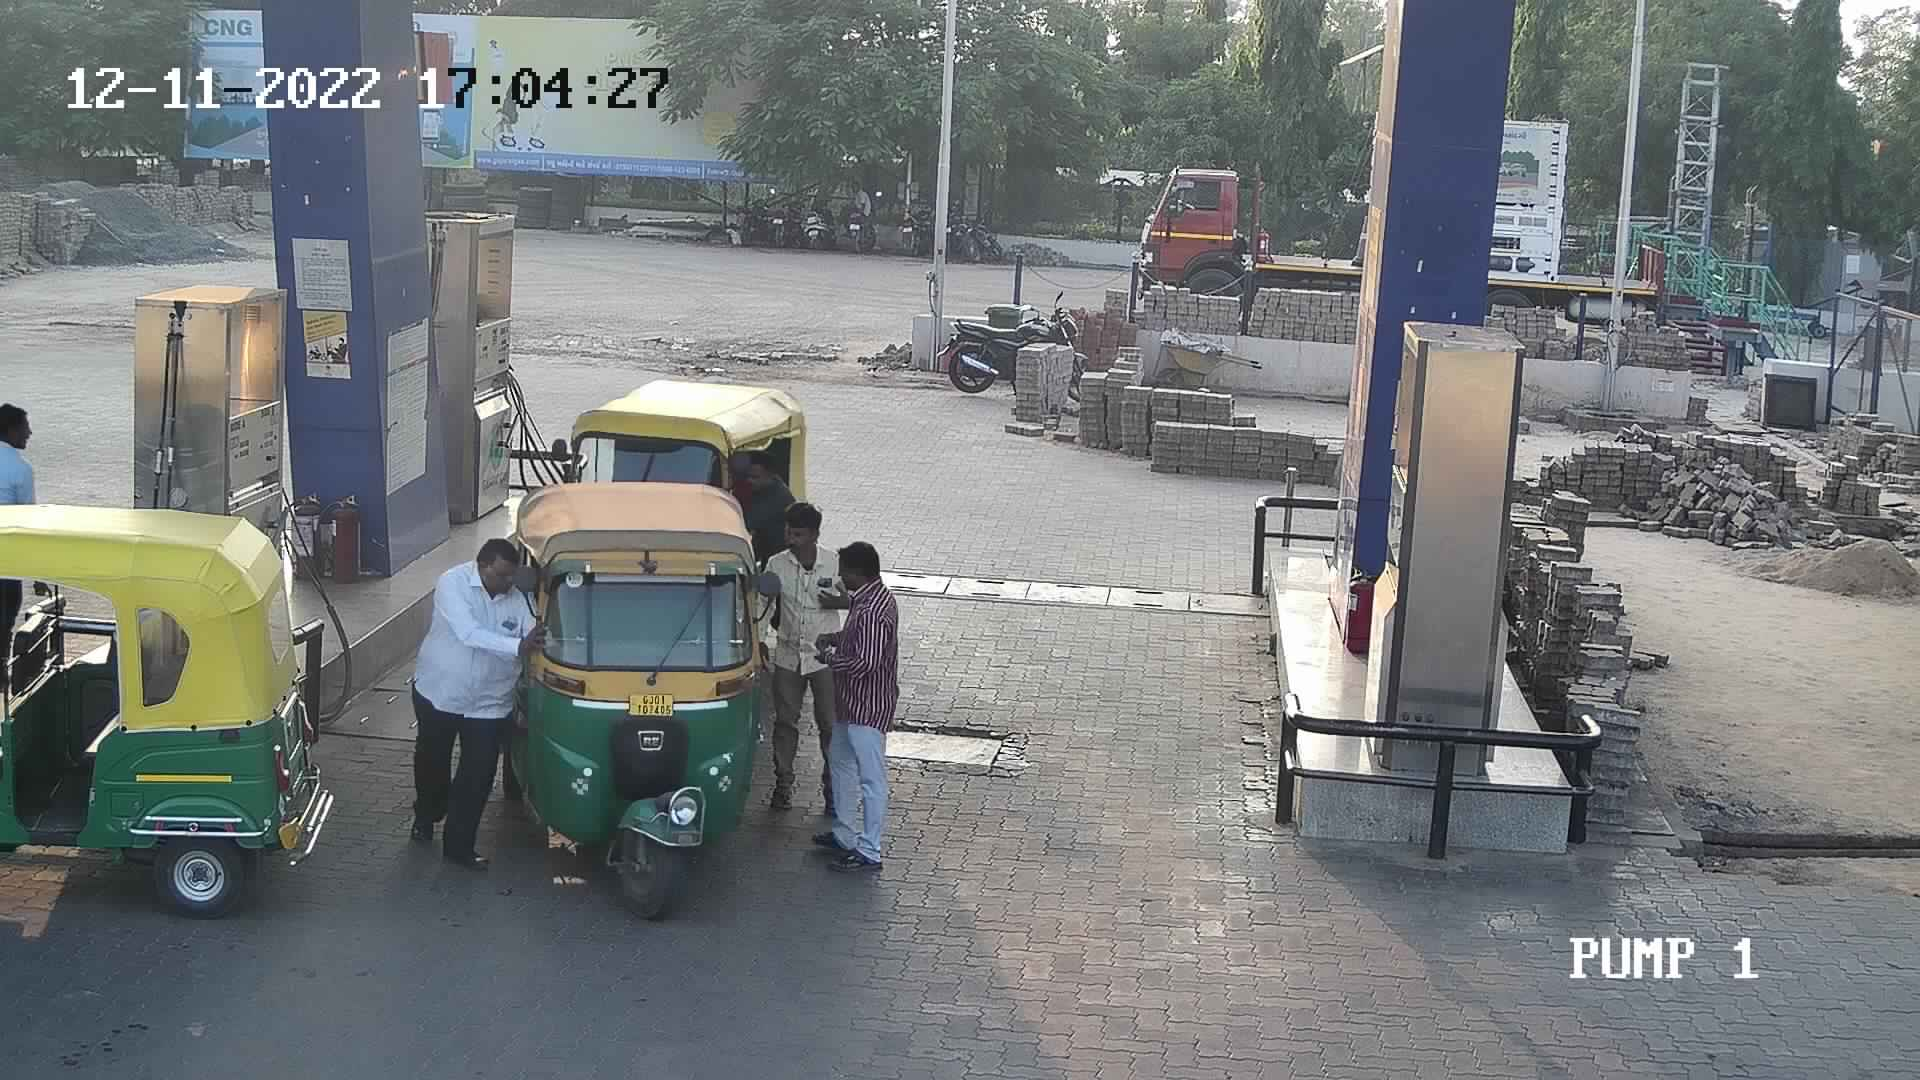Auto: (0, 481, 343, 928), (489, 473, 789, 926), (549, 373, 818, 514)
Bike: (938, 284, 1106, 426), (936, 200, 1007, 269), (735, 179, 785, 253), (760, 181, 804, 252), (837, 185, 880, 257), (795, 186, 841, 252), (889, 189, 928, 258)
HMV: (1124, 160, 1369, 334)
